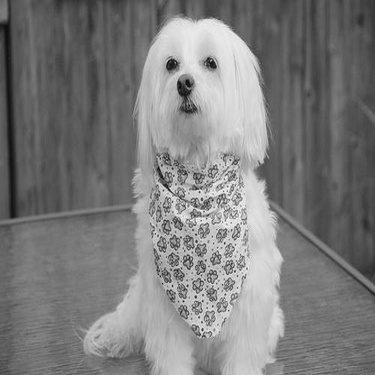dog: (65, 9, 293, 371)
